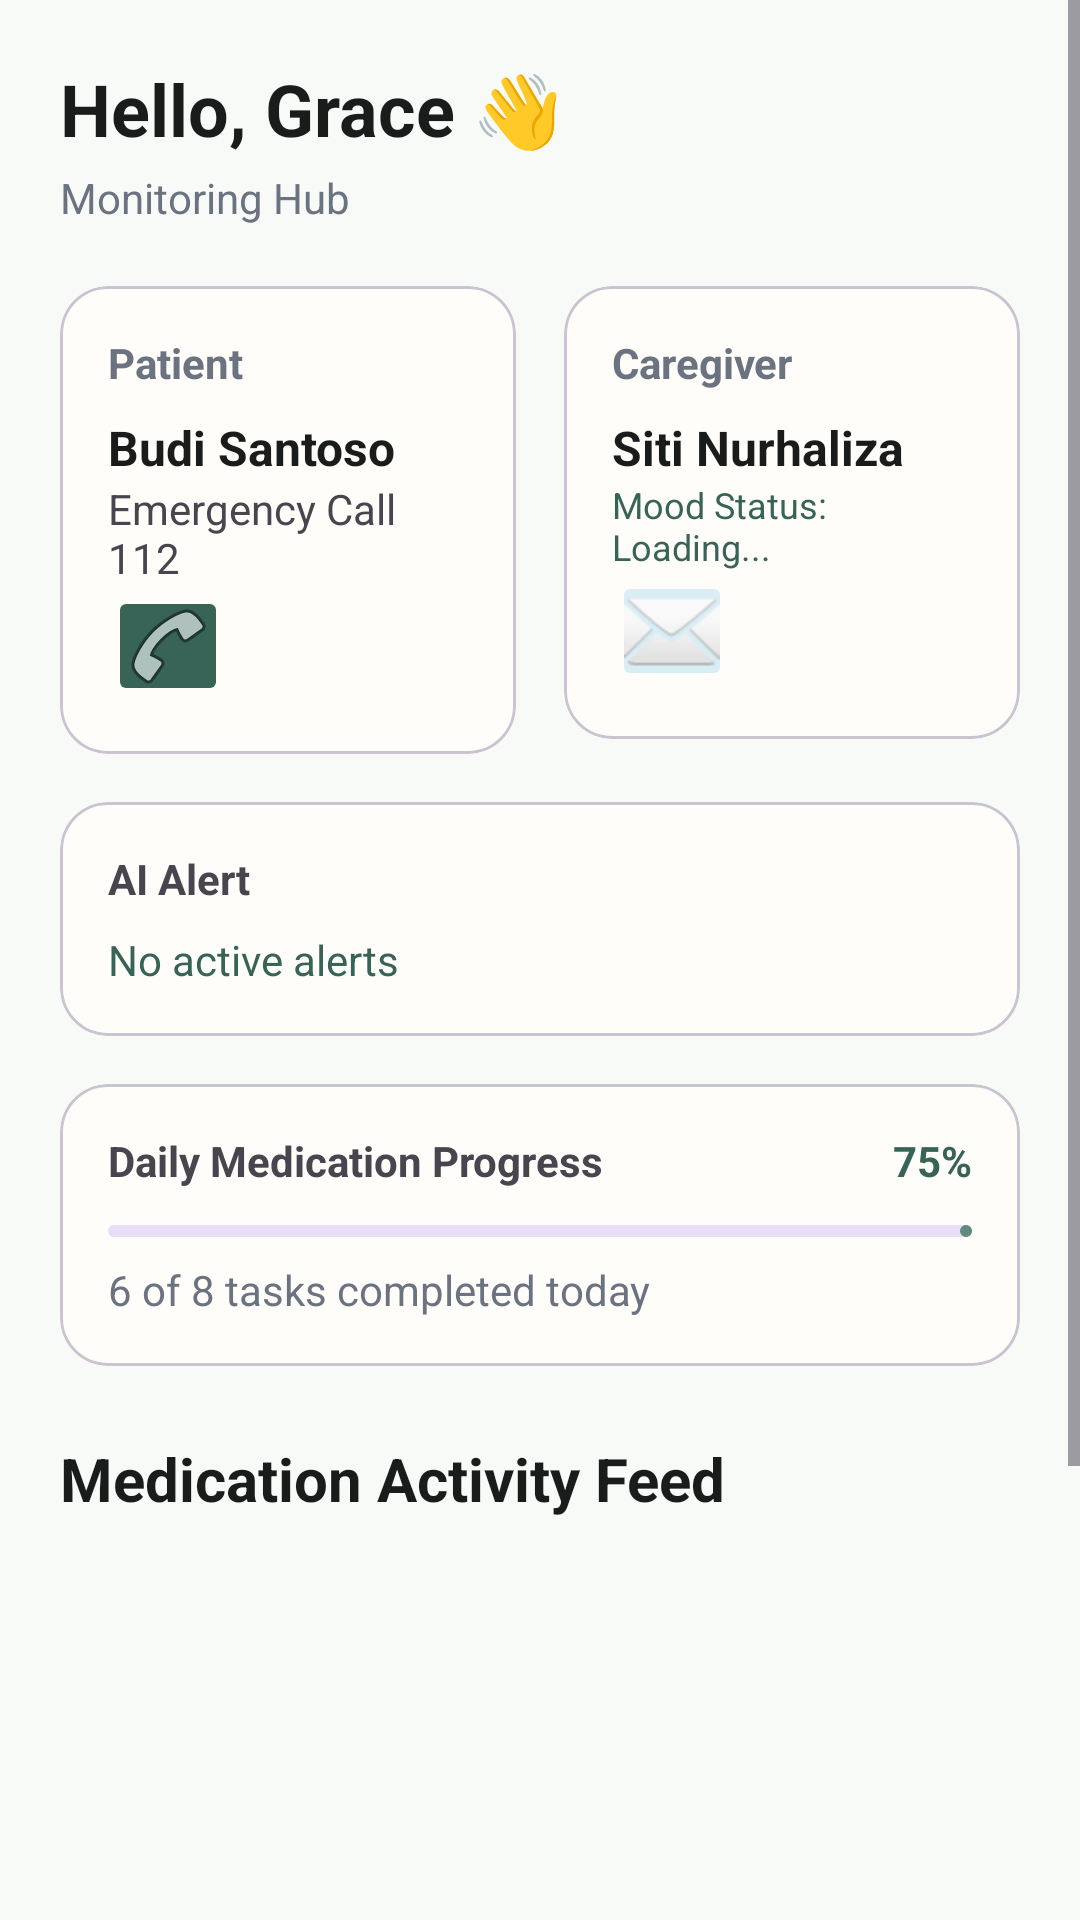

Icon bounding boxes for this 1080*1920 phone screenshot, format (x1=x1, y1=y1, x2=x2, y2=y2):
email: (x1=624, y1=589, x2=720, y2=673)
Hubungi darurat: (x1=120, y1=604, x2=216, y2=688)
